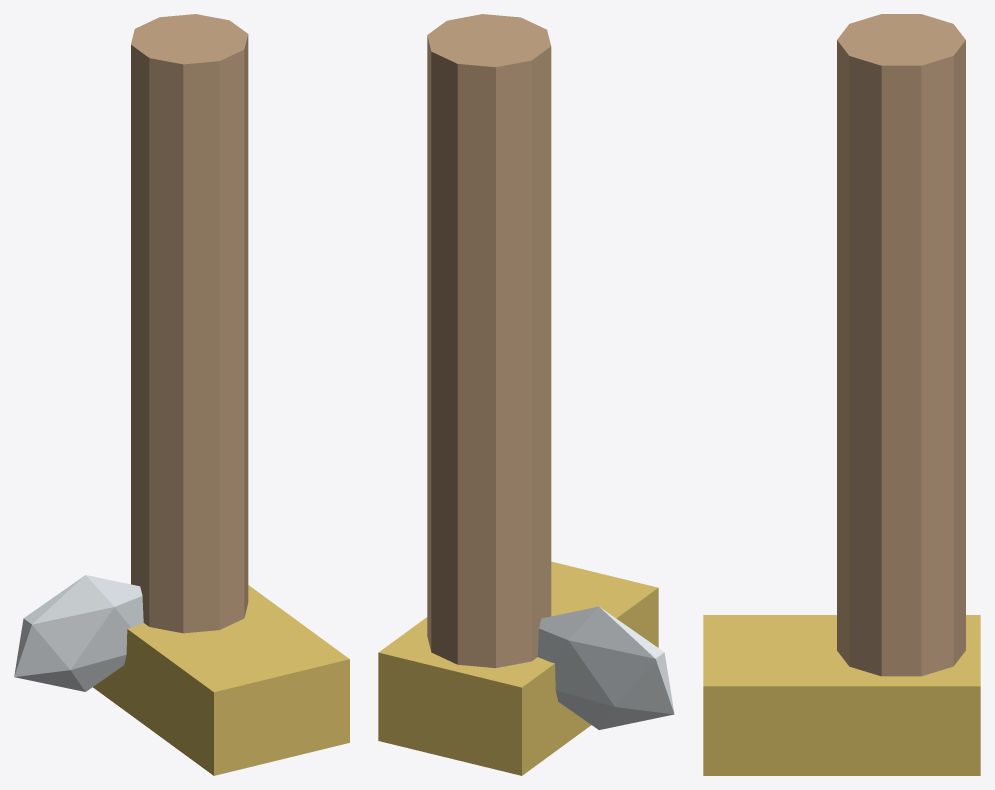
File: limb_hermes_sandal_leg.glb
3 renders of one model, left to right at view 1: azimuth 30°, elevation 25°; view 2: azimuth 150°, elevation 25°; view 3: azimuth 270°, elevation 25°, orthographic. The views are drawn at different scales.
Visible parts, largest first — view 1: PART_leg, PART_sandal, PART_sandal_wing; view 2: PART_leg, PART_sandal, PART_sandal_wing; view 3: PART_leg, PART_sandal.
Part boxes in pixels (x1,y1,x2,y2): PART_leg: (131,14,248,633); PART_sandal: (93,585,349,775); PART_sandal_wing: (14,575,143,691); PART_leg: (427,14,551,668); PART_sandal: (378,561,658,775); PART_sandal_wing: (537,606,674,729); PART_leg: (837,14,965,676); PART_sandal: (703,615,980,775).
Bounding box in the file's own units: 0.3044 × 0.78 × 0.28.
